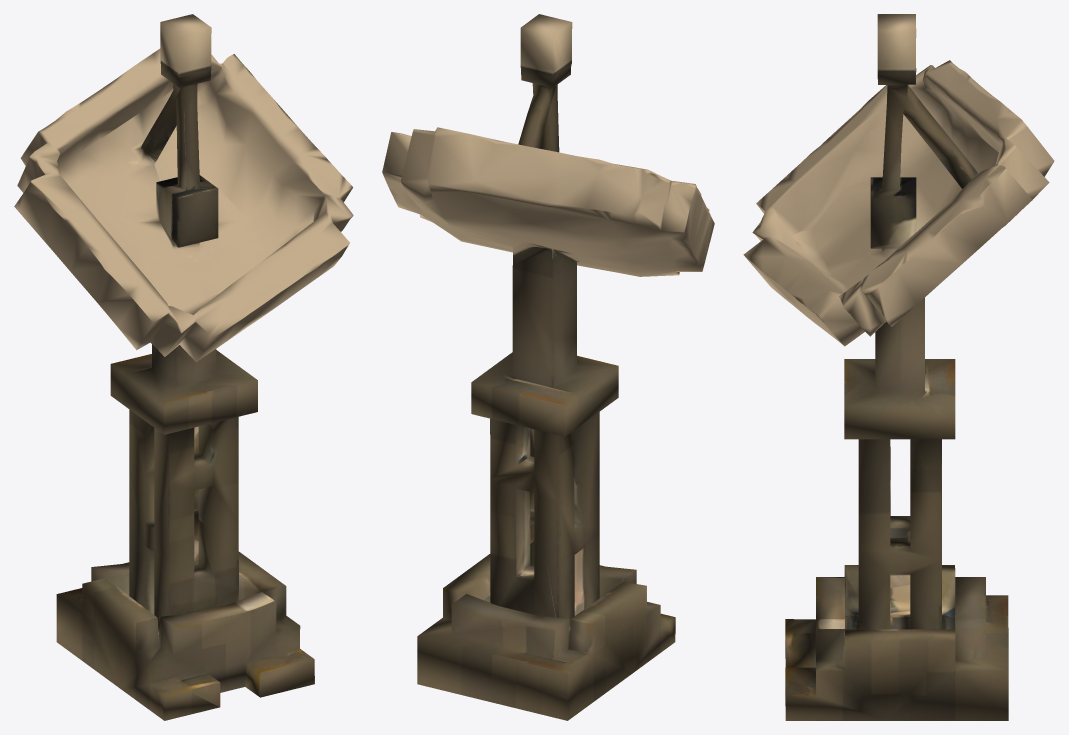
Rendered from lamp_post.fbx.
3 views of the same model, side by side, from view 1: azimuth 30°, elevation 25°; view 2: azimuth 150°, elevation 25°; view 3: azimuth 270°, elevation 25° (orthographic). The views are drawn at different scales.
Visible parts, largest first — view 1: tripo_node_56c00546; view 2: tripo_node_56c00546; view 3: tripo_node_56c00546.
Part boxes in pixels (x1,y1,x2,y2): tripo_node_56c00546: (14, 14, 353, 720); tripo_node_56c00546: (382, 14, 714, 720); tripo_node_56c00546: (743, 14, 1054, 720).
Size of the model in its own units: 0.5043 by 0.9999 by 0.427.
1 material, 1 textured.
